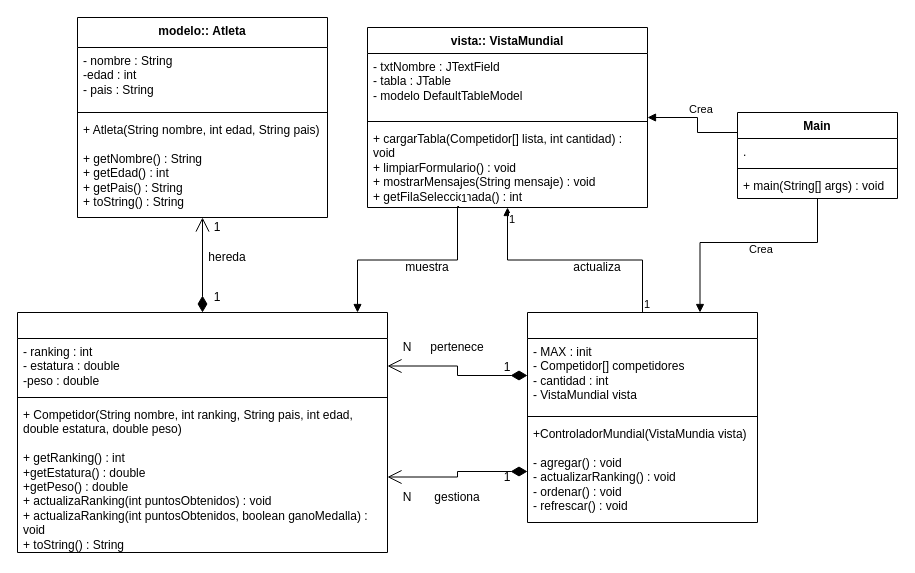
Some shapes in this 915 by 573 pixel diagram are drawn without their labels. The box of each missing label's shape, as (x1, y1, x2, y2) in pixels:
controlador:: ControladorMudnial: (526, 312, 758, 522)
modelo:: Competidor: (16, 312, 388, 552)
